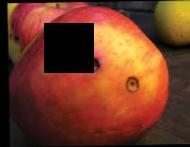rotten apple: (8, 2, 171, 144)
